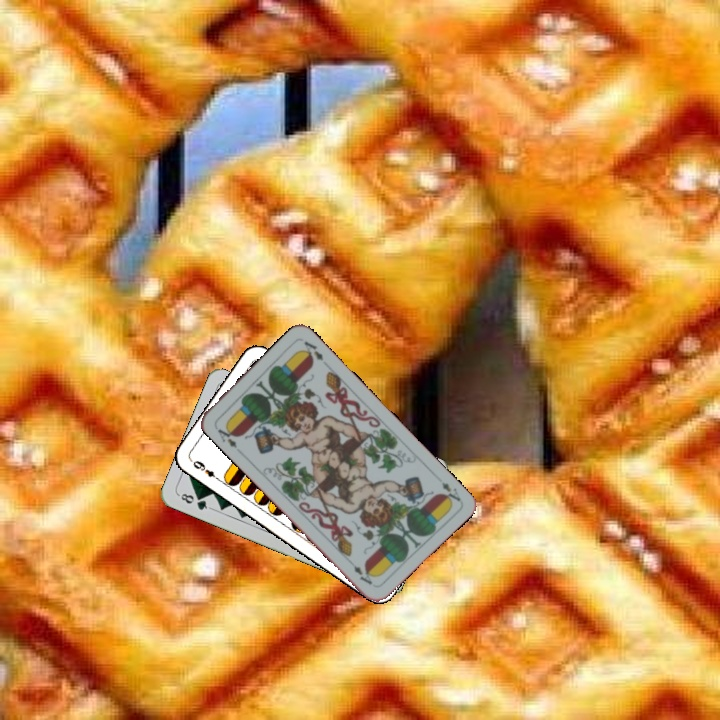E9: (189, 456, 223, 484)
EA: (214, 421, 241, 451), (437, 478, 463, 507)
G8: (175, 489, 214, 513)
